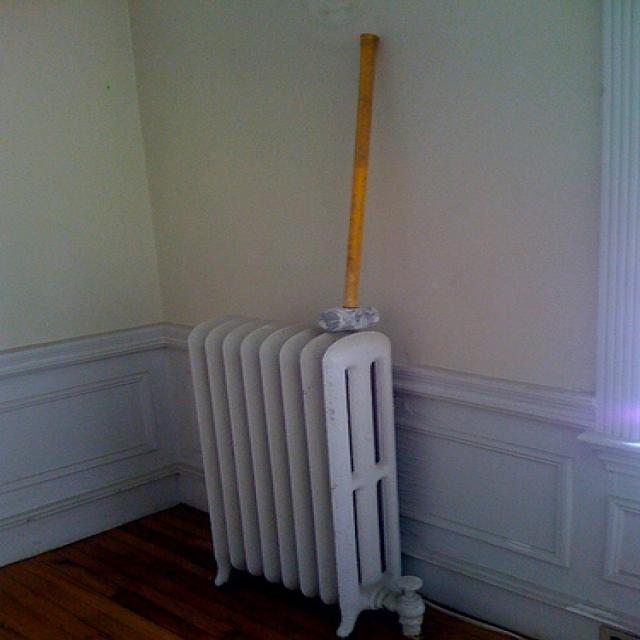hammer: (318, 34, 380, 331)
